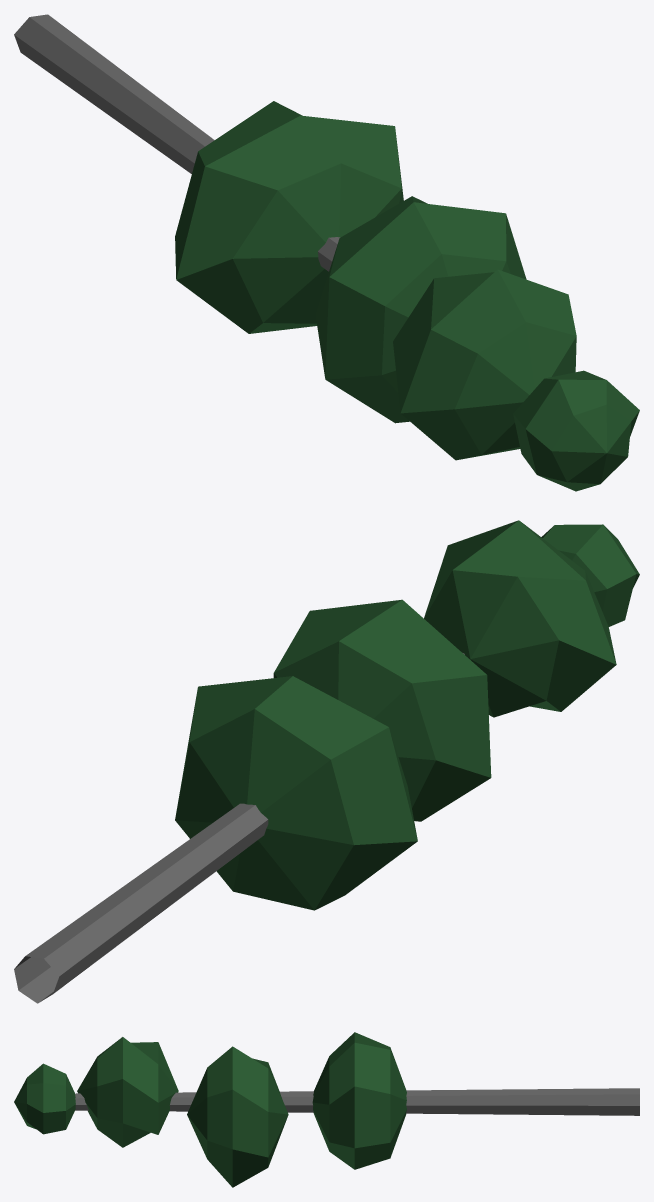
File: grown.glb
3 views of the same model, one above another, from view 1: azimuth 30°, elevation 25°; view 2: azimuth 150°, elevation 25°; view 3: azimuth 270°, elevation 25° (orthographic). The views are drawn at different scales.
Parts seen in each view (by area): view 1: tree_05_grown; view 2: tree_05_grown; view 3: tree_05_grown.
Boxes of the visible parts, x1,y1,x2,y2 form: tree_05_grown: [14, 14, 639, 491]; tree_05_grown: [14, 520, 639, 1003]; tree_05_grown: [14, 1032, 639, 1187].
Size of the model in its own units: 11.84 by 10.56 by 47.42.
